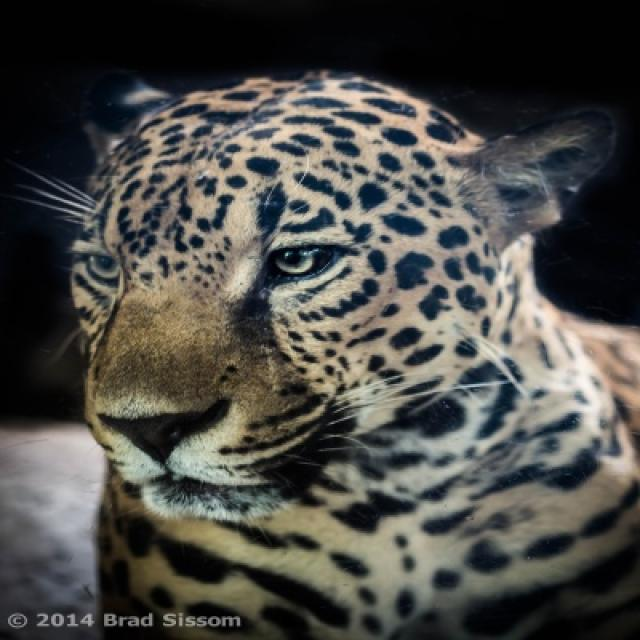Jaguar: (69, 70, 638, 638)
